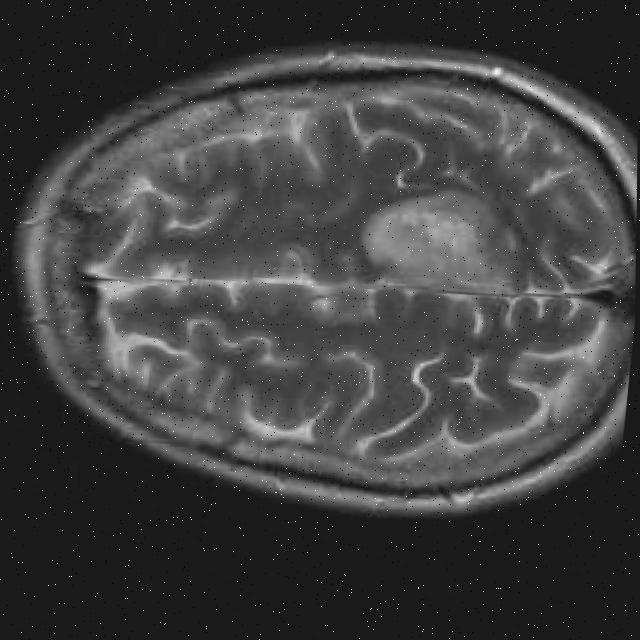Meningioma: (351, 177, 535, 297)
